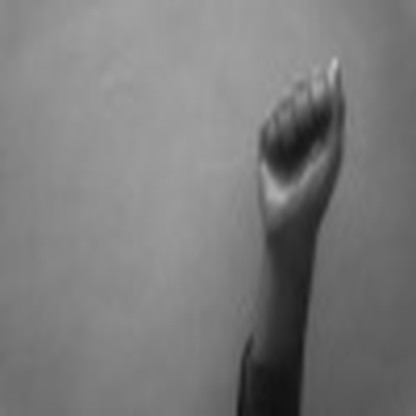a: (245, 49, 355, 241)
